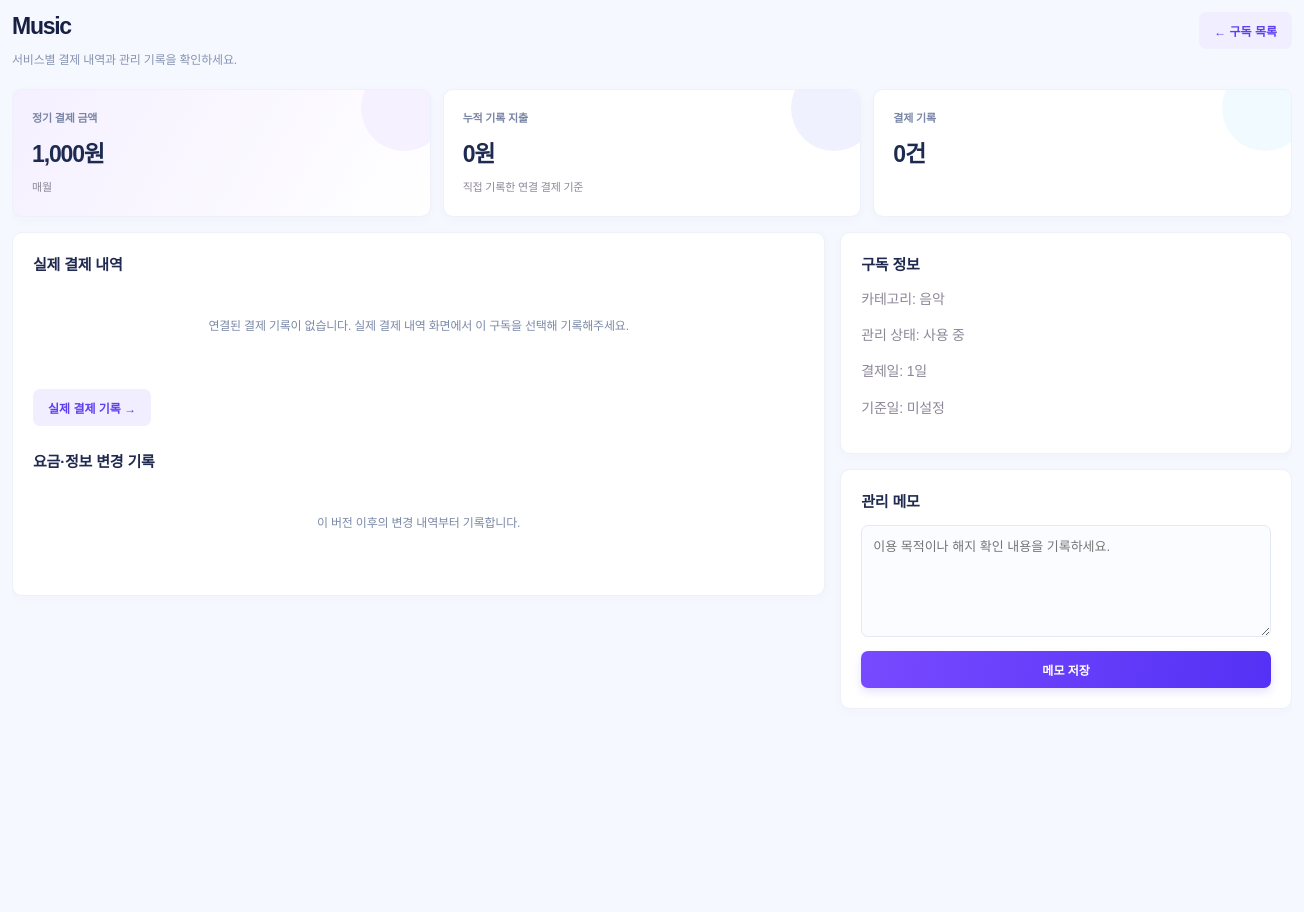
Test: subscription management notes are saved
Type "Review later" into the text box named "구독 관리 메모" at [1066, 581], box [861,525,1271,637]
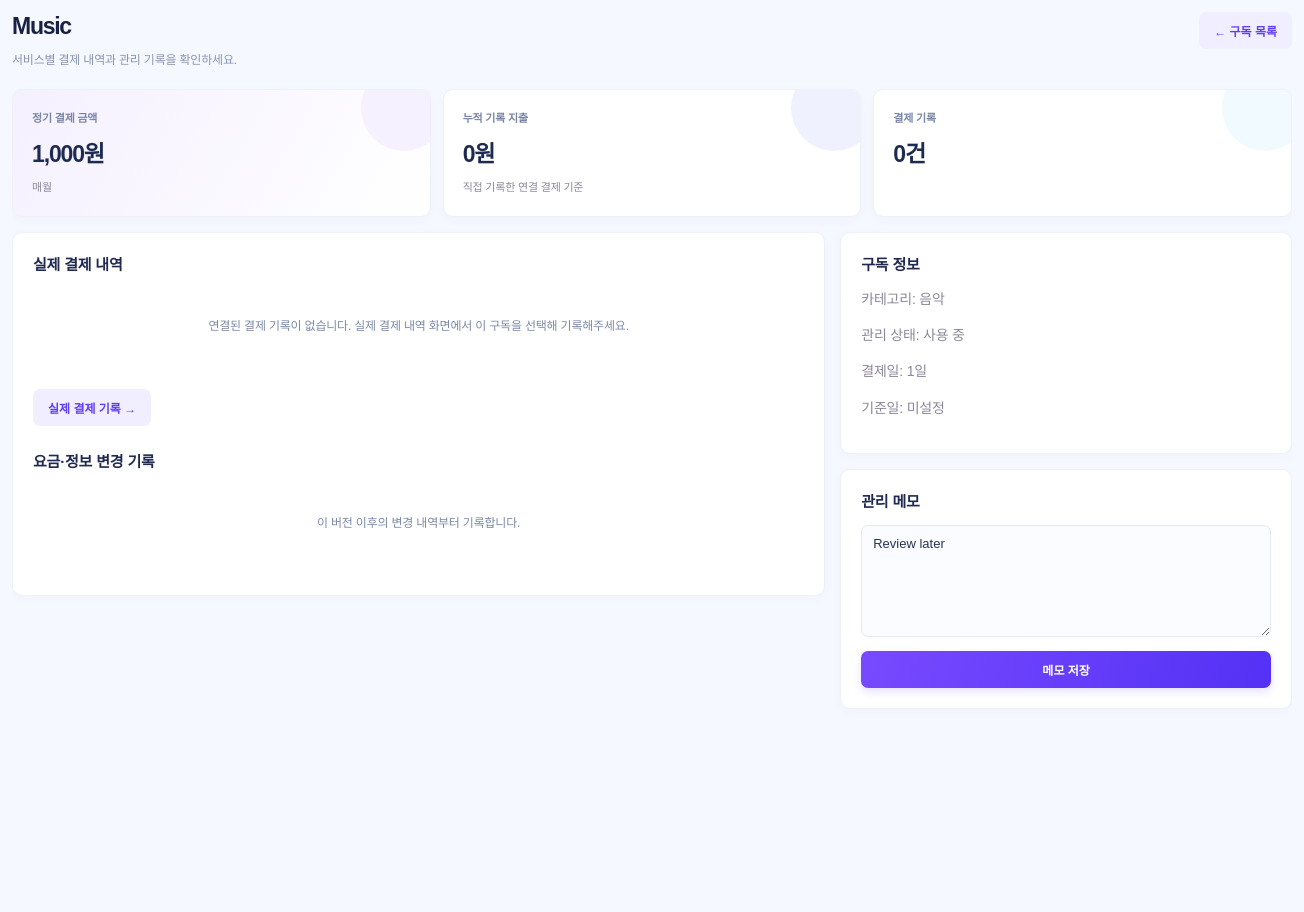
Click the button "메모 저장" at [1066, 670], box [861,651,1271,688]
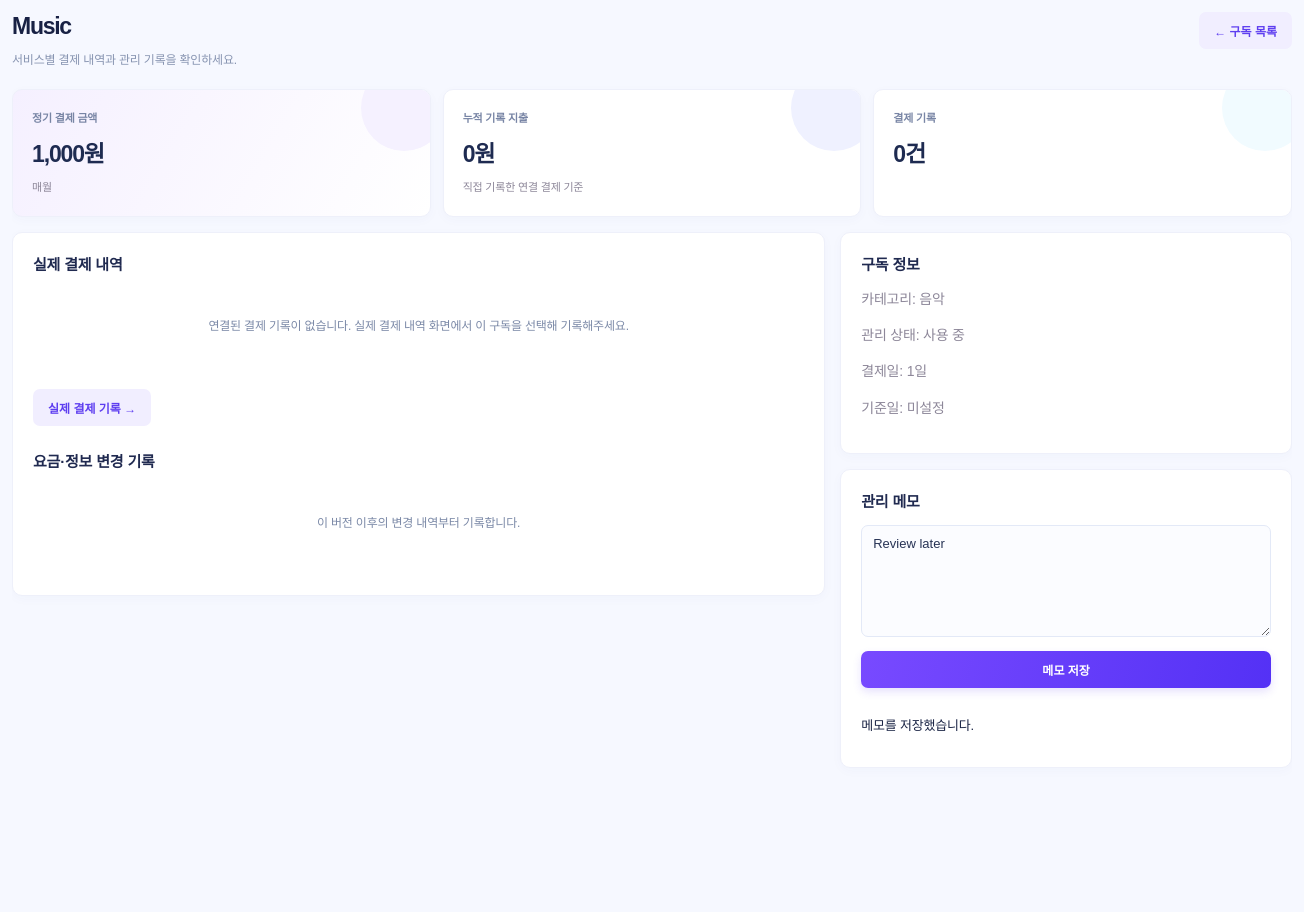
Expected: the text "메모를 저장했습니다." is shown, [861,718,974,733]
